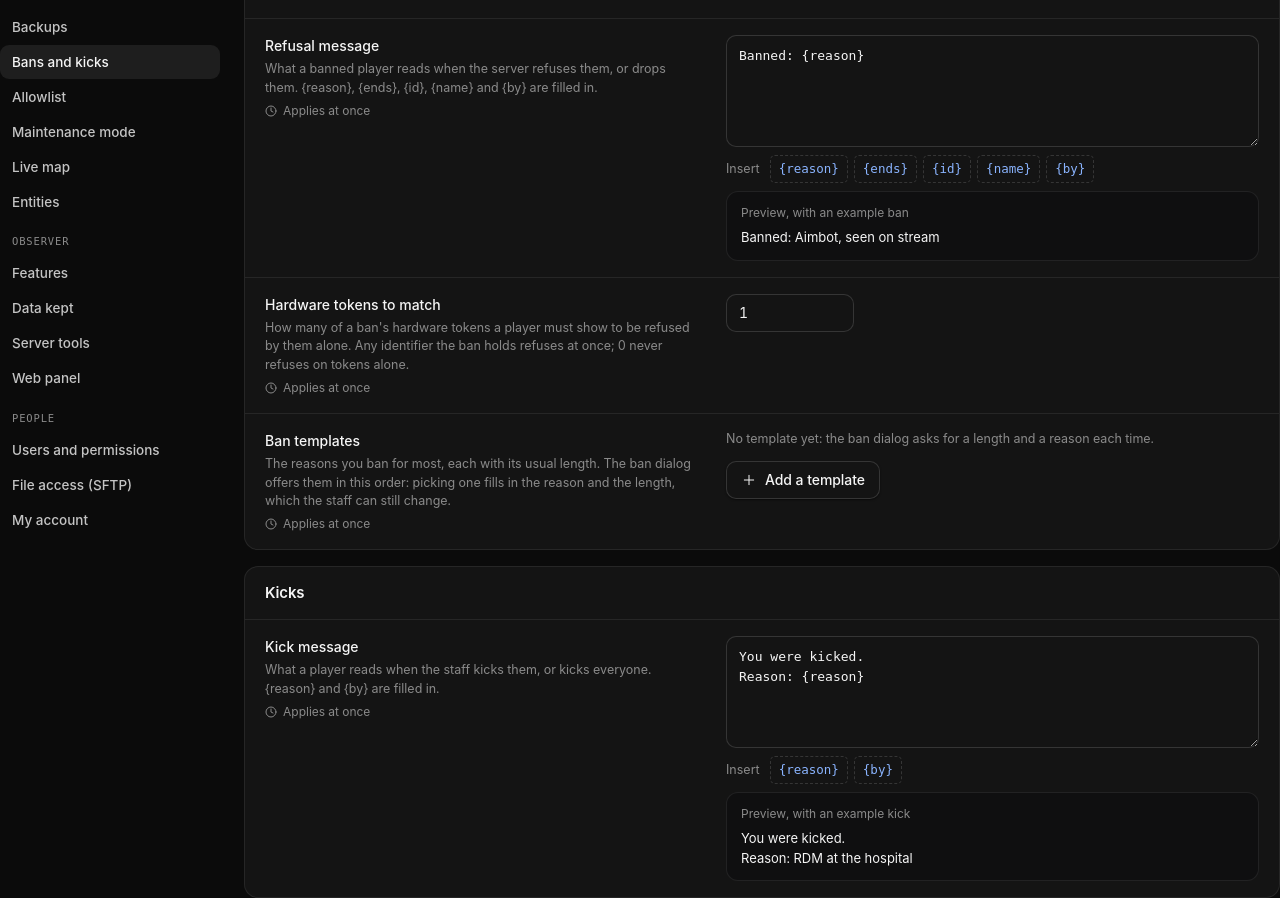
Test: the kick message, among the bans settings › should insert a placeholder where the cursor stands
(page scrolled)
Replace the text in the text box labelled "Kick message" with "Kicked by .". click: point(992, 692)
box: [726,636,1259,748]
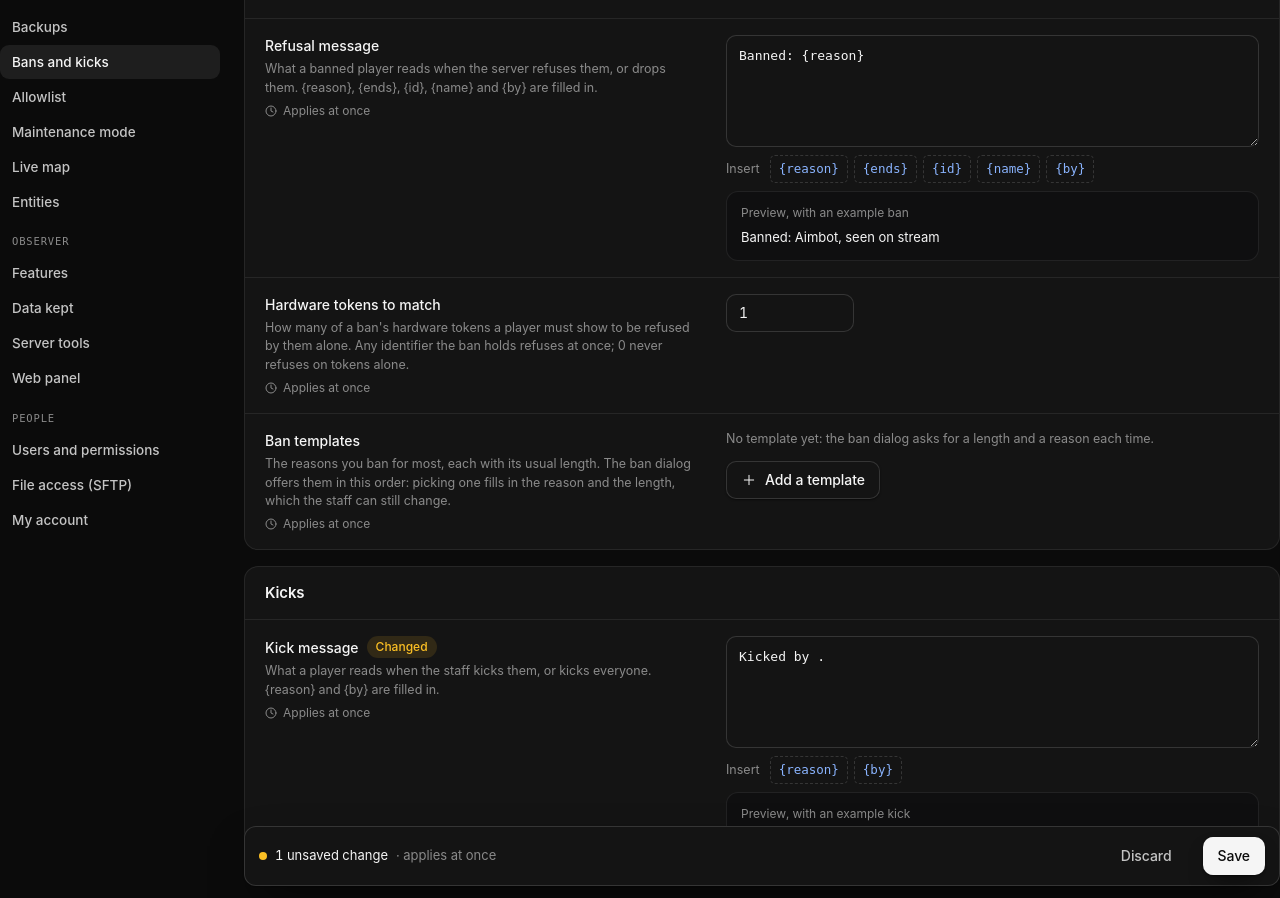
Click the 2nd button "{by}". click: point(878, 770)
box: [854,756,902,784]
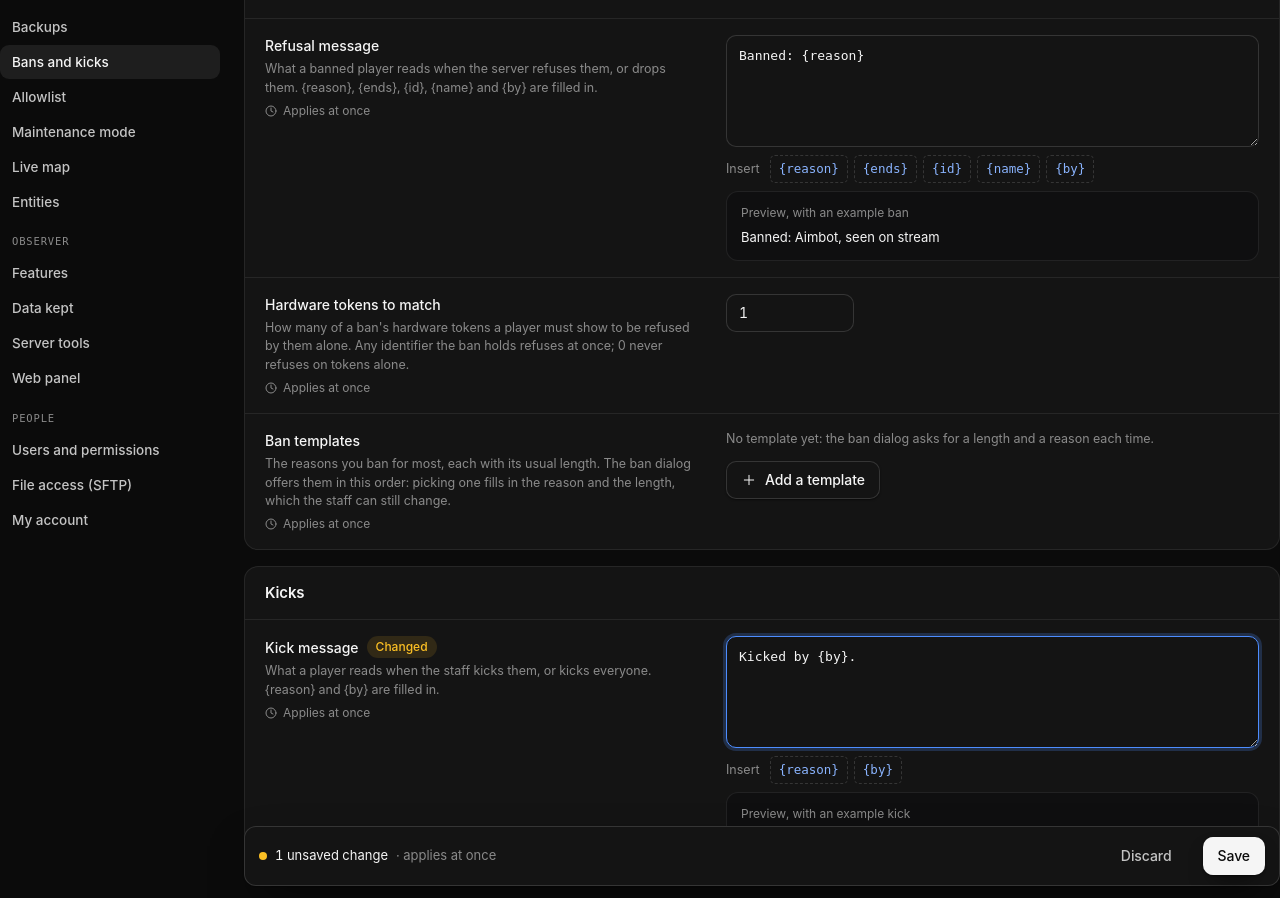
Expected: the text box labelled "Kick message" holds "Kicked by {by}.", [726,636,1259,748]
